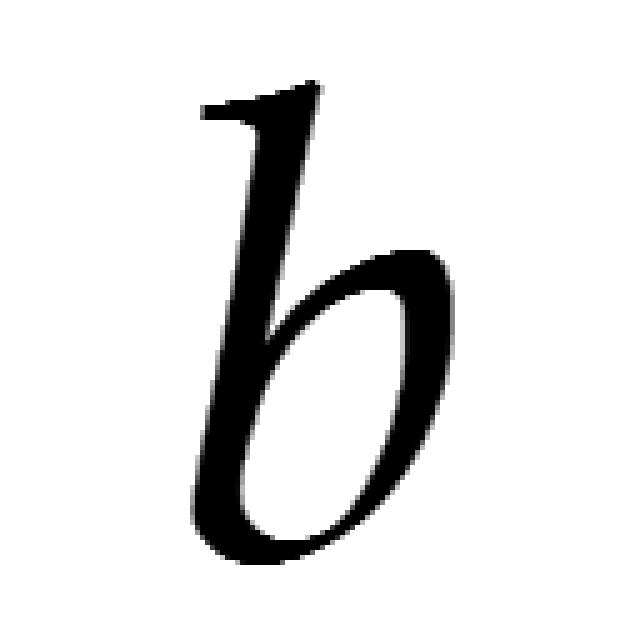B: (190, 80, 455, 570)
